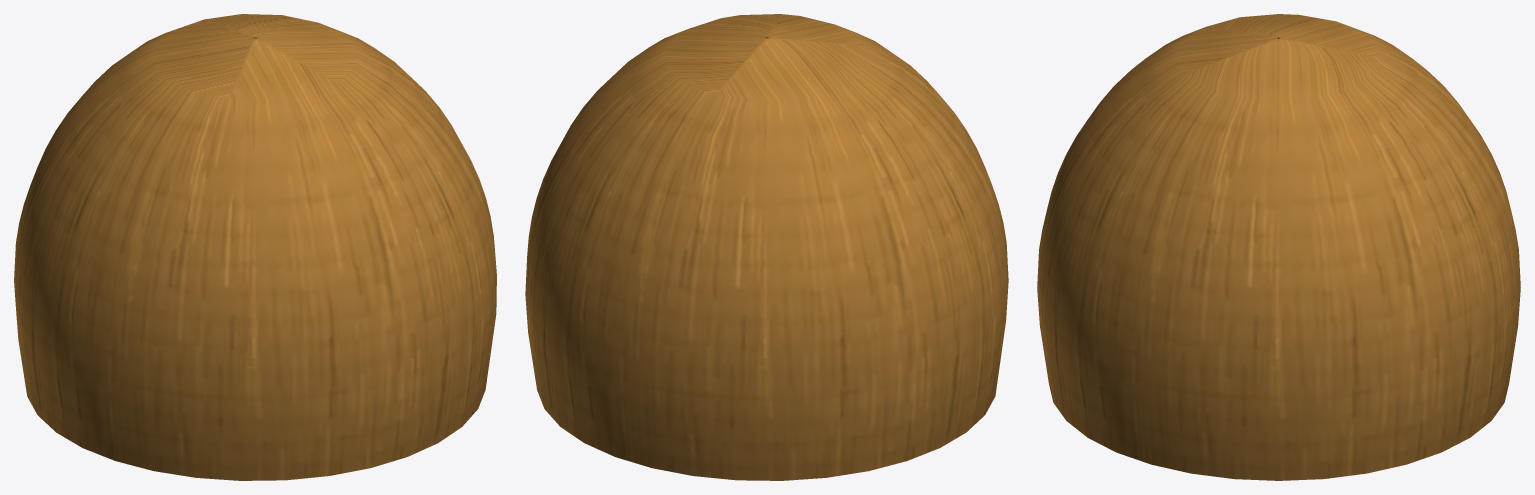
The model's file is haystack.glb.
3 renders of one model, left to right at view 1: azimuth 30°, elevation 25°; view 2: azimuth 150°, elevation 25°; view 3: azimuth 270°, elevation 25°, orthographic.
Parts seen in each view (by area): view 1: haystack.001; view 2: haystack.001; view 3: haystack.001.
Part boxes in pixels (box(x1,y1,x2,y2)): haystack.001: box(14, 14, 496, 480); haystack.001: box(525, 14, 1008, 480); haystack.001: box(1037, 14, 1520, 480).
Bounding box in the file's own units: 3.96 × 3.12 × 3.96.
Materials: 1 (1 with a texture image).
